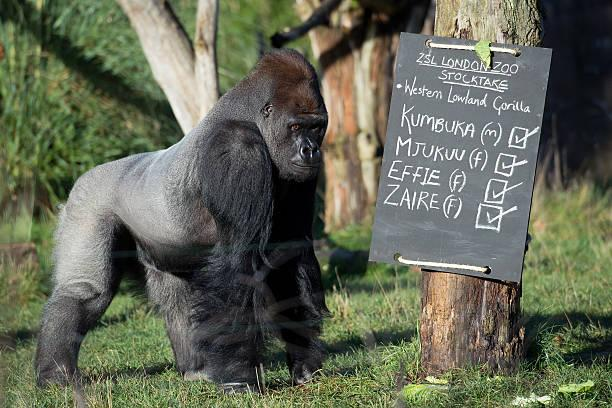gorille_Autres: (34, 42, 353, 381)
